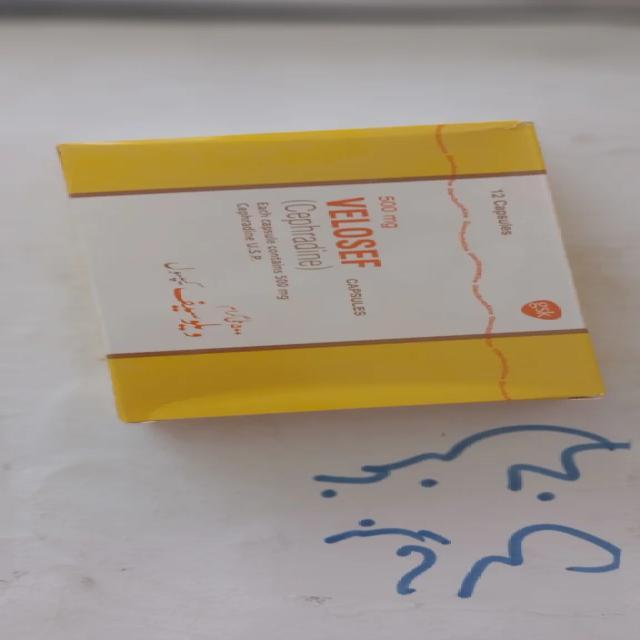drug-name: (319, 193, 387, 270)
